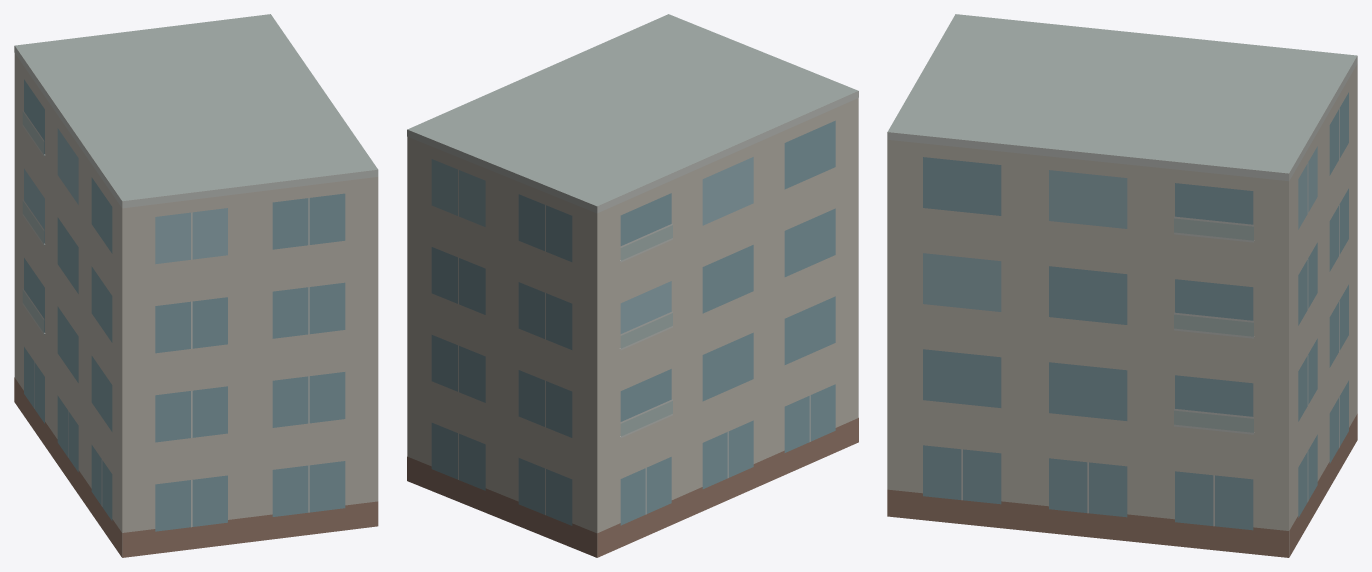
File: residential-d28fdd26-347d-486a-8c46-8c31a1172cac.glb
3 renders of one model, left to right at view 1: azimuth 30°, elevation 25°; view 2: azimuth 150°, elevation 25°; view 3: azimuth 270°, elevation 25°, orthographic. The views are drawn at different scales.
Parts seen in each view (by area): view 1: residential-d28fdd26-347d-486a-8c46-8c31a1172cac.tmp; view 2: residential-d28fdd26-347d-486a-8c46-8c31a1172cac.tmp; view 3: residential-d28fdd26-347d-486a-8c46-8c31a1172cac.tmp.
Part boxes in pixels (x1=…): residential-d28fdd26-347d-486a-8c46-8c31a1172cac.tmp: x1=14, y1=14, x2=378, y2=557; residential-d28fdd26-347d-486a-8c46-8c31a1172cac.tmp: x1=407, y1=14, x2=858, y2=557; residential-d28fdd26-347d-486a-8c46-8c31a1172cac.tmp: x1=887, y1=14, x2=1357, y2=557.
Size of the model in its own units: 10.87 by 12.2 by 13.54.
